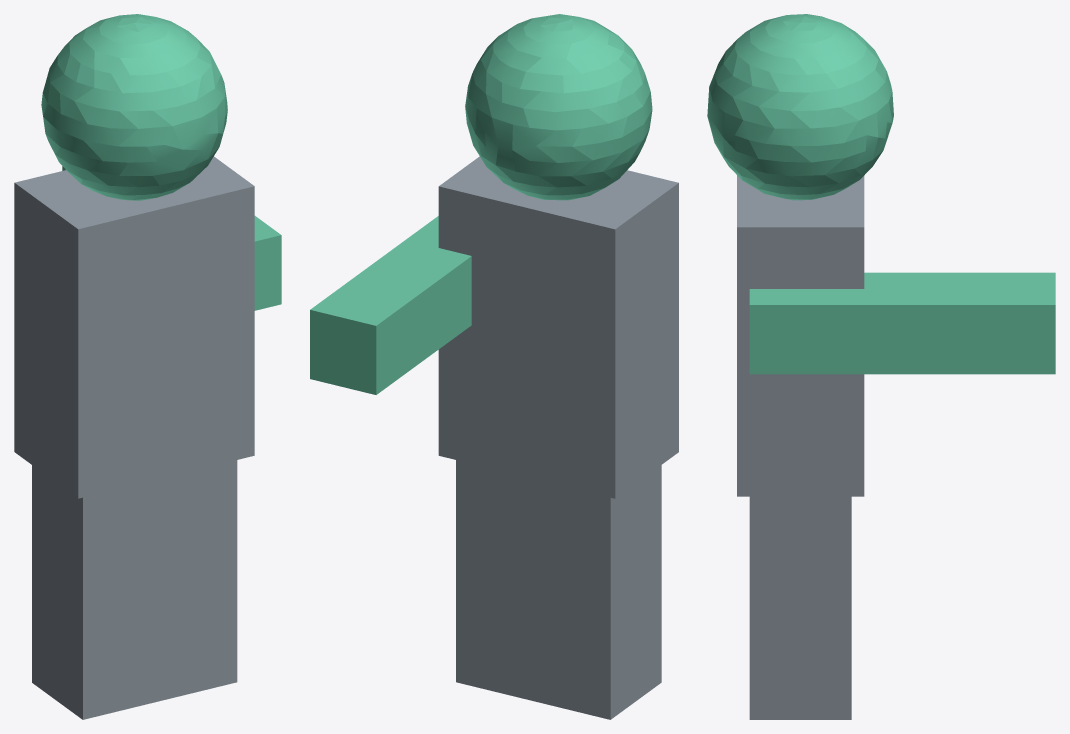
Rendered from CO_JieTechnician_LOD1.glb.
3 renders of one model, left to right at view 1: azimuth 30°, elevation 25°; view 2: azimuth 150°, elevation 25°; view 3: azimuth 270°, elevation 25°, orthographic.
Visible parts, largest first — view 1: Head; view 2: Head; view 3: Head.
Boxes of the visible parts, left/top/right/bottom form: Head: left=14, top=14, right=281, bottom=719; Head: left=310, top=14, right=678, bottom=719; Head: left=707, top=14, right=1055, bottom=719.
Size of the model in its own units: 57 by 171 by 81.99.
